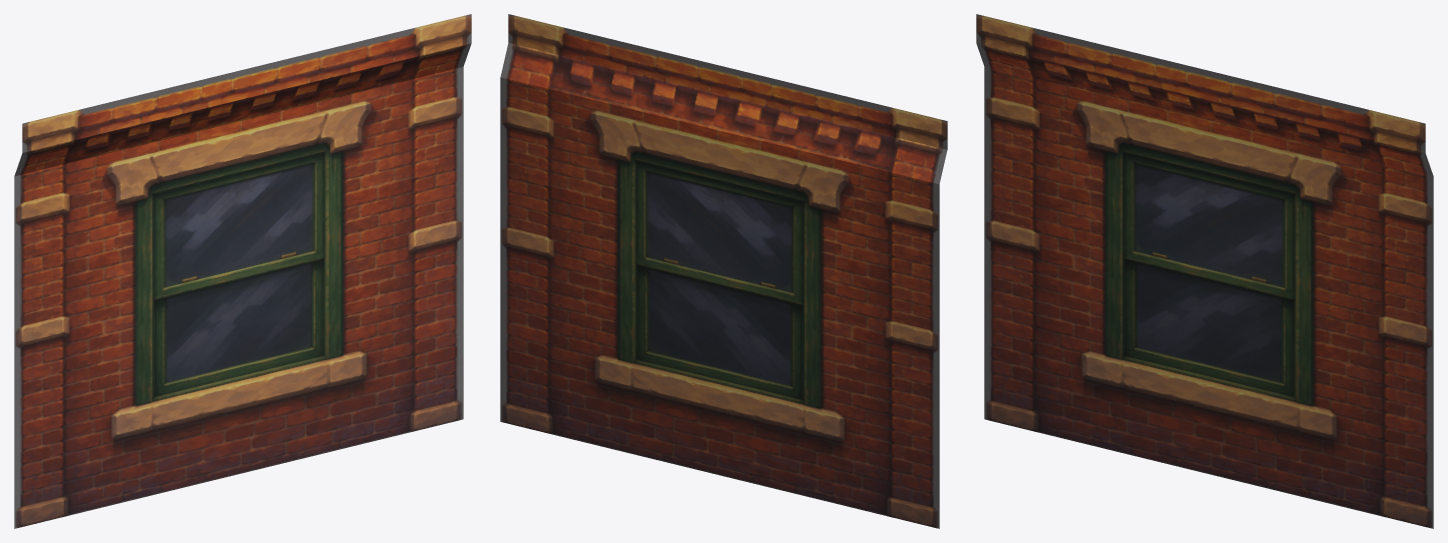
Rendered from BRK_U_Bay4A.fbx.
3 views of the same model, side by side, from view 1: azimuth 30°, elevation 25°; view 2: azimuth 150°, elevation 25°; view 3: azimuth 330°, elevation 25° (orthographic). The views are drawn at different scales.
Visible parts, largest first — view 1: BRK_U_Bay4A; view 2: BRK_U_Bay4A; view 3: BRK_U_Bay4A.
Part boxes in pixels (left/top/right/bottom): BRK_U_Bay4A: left=14, top=14, right=471, bottom=528; BRK_U_Bay4A: left=500, top=14, right=947, bottom=528; BRK_U_Bay4A: left=976, top=14, right=1433, bottom=528.
Size of the model in its own units: 4 by 0.125 by 3.5.
Materials: 1 (1 with a texture image).
